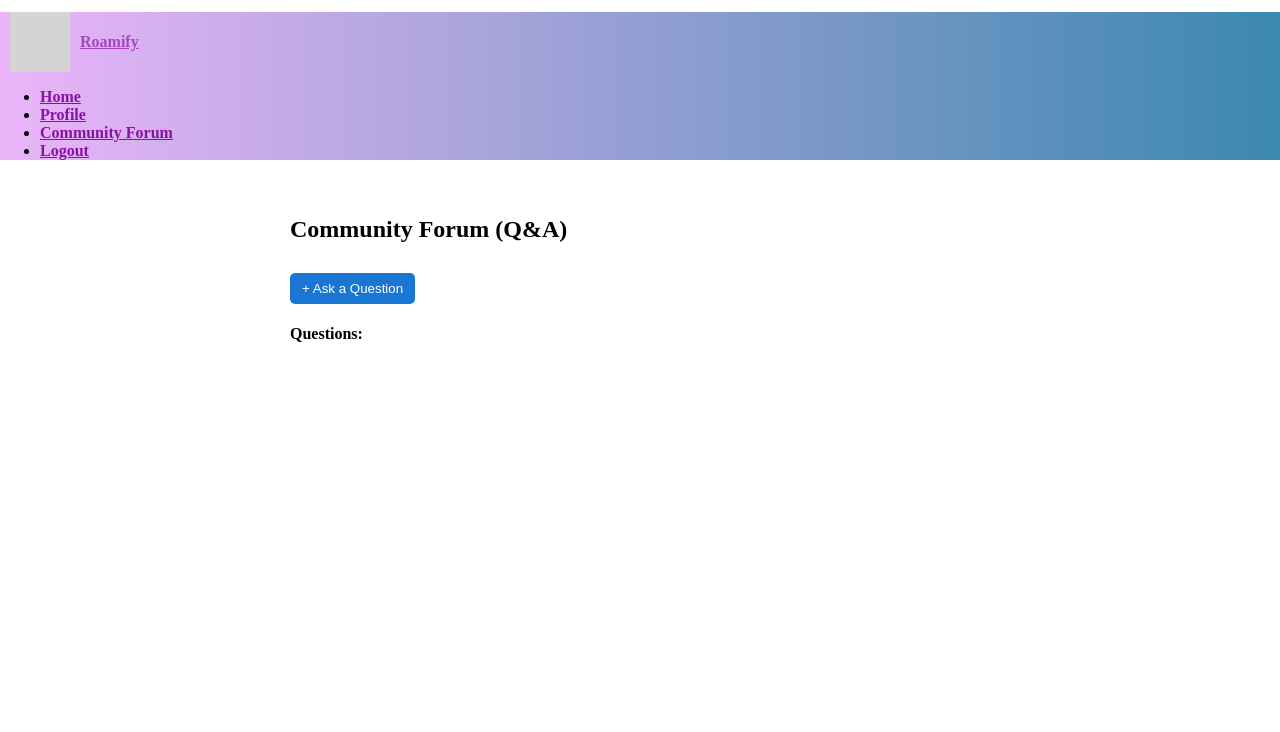
Scenario: CommunityForum › shows ask question form when button clicked
What coordinates should you click on to do the following:
click the button "+ Ask a Question"
I would click on:
 (353, 288)
Its box is [290, 273, 415, 304].
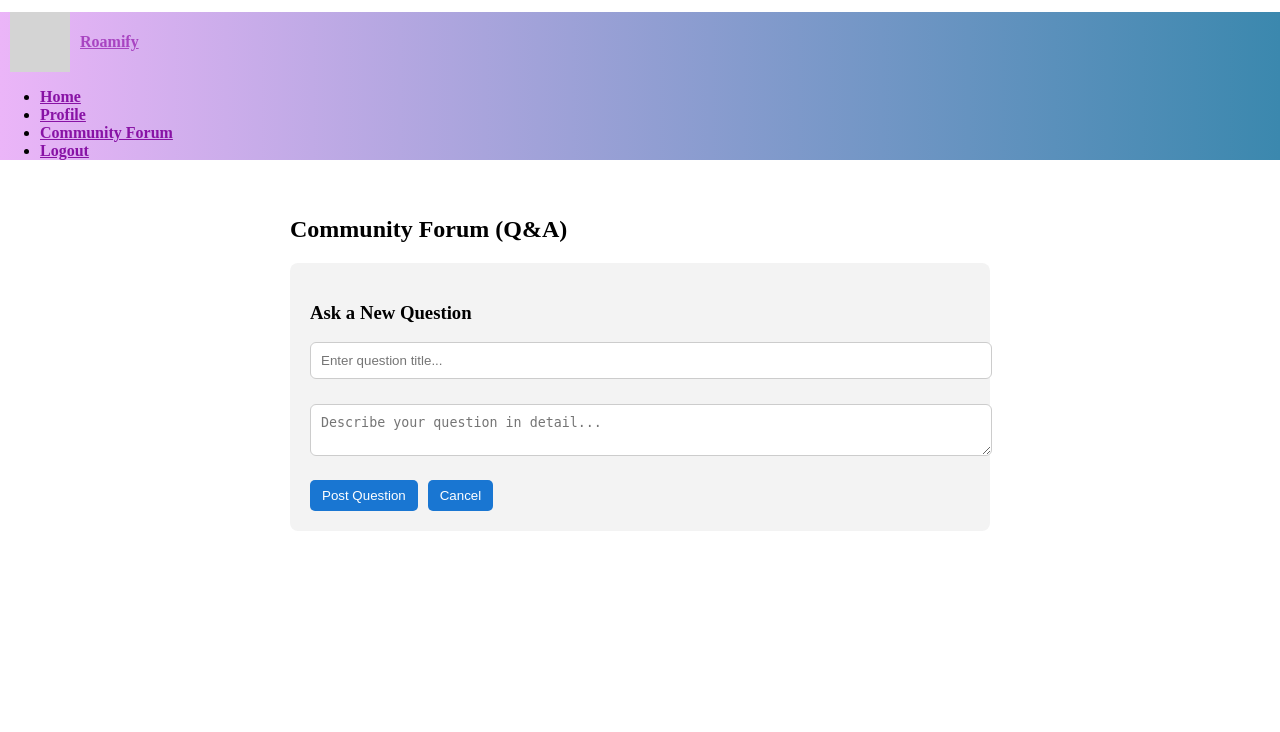
Now the field with placeholder "Enter question title..." is shown, box [310, 342, 992, 379]
